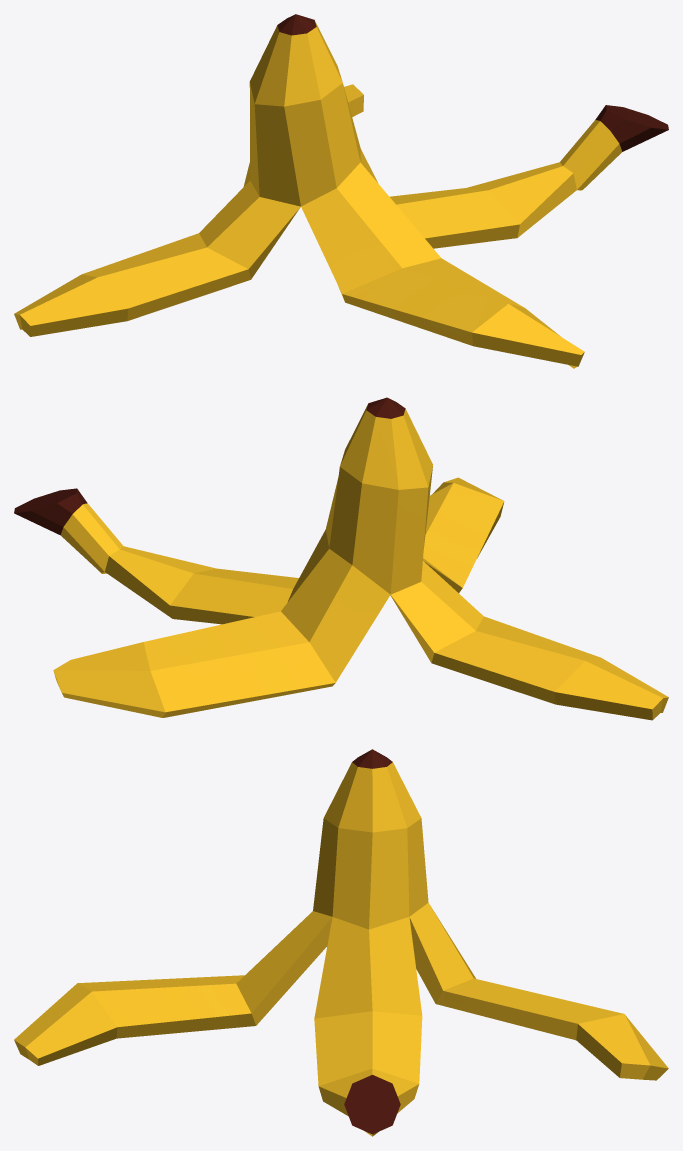
The model's file is banana.fbx.
3 renders of one model, top to bottom at view 1: azimuth 30°, elevation 25°; view 2: azimuth 150°, elevation 25°; view 3: azimuth 270°, elevation 25°, orthographic.
Parts seen in each view (by area): view 1: banana-peel; view 2: banana-peel; view 3: banana-peel.
Boxes of the visible parts, left/top/right/bottom form: banana-peel: left=14, top=14, right=668, bottom=368; banana-peel: left=14, top=397, right=668, bottom=720; banana-peel: left=14, top=749, right=668, bottom=1136.
Bounding box in the file's own units: 38.05 × 14.61 × 33.12.
Materials: 1 (1 with a texture image).
